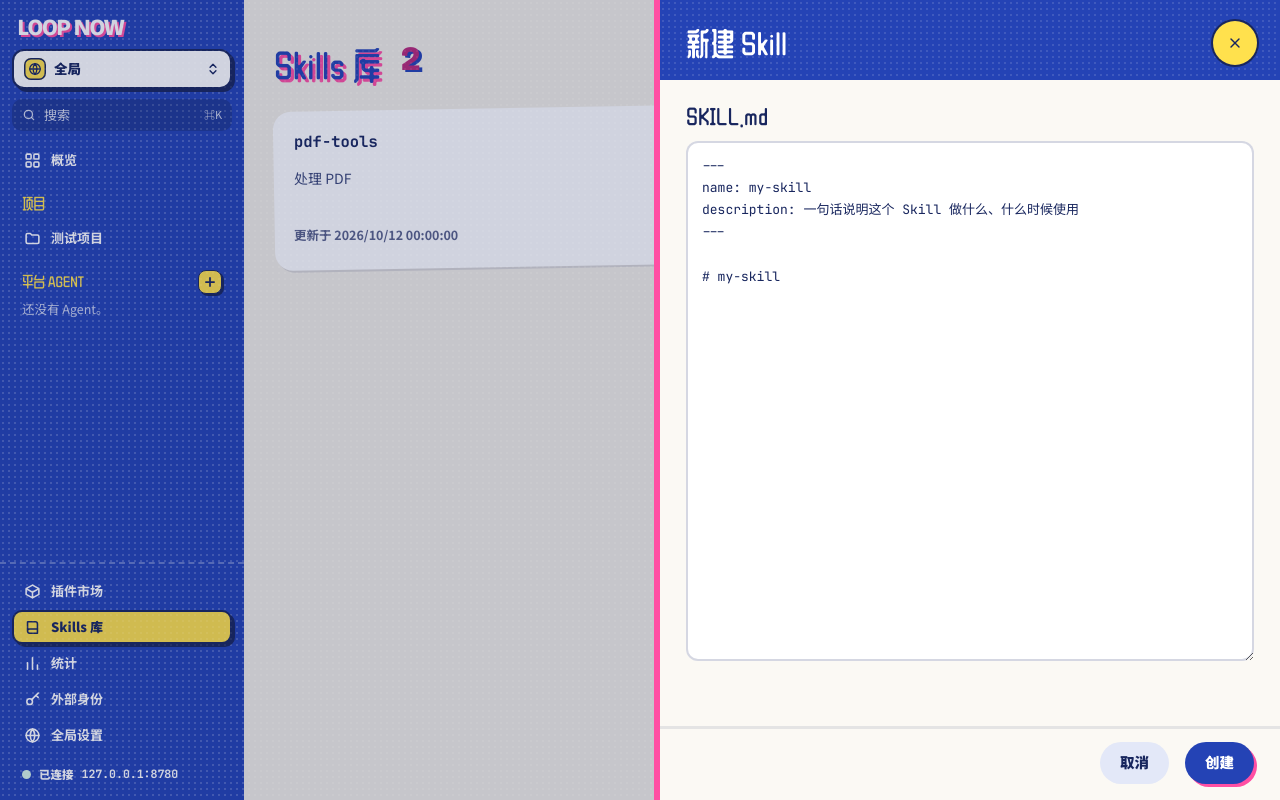
Test case: 抽屉由地址控制开合 › 在线新建抽屉的取消按钮关闭抽屉，不创建模板
The image size is (1280, 800).
Step 1. Click the button "取消" → (1134, 763), box [1100, 742, 1169, 784]
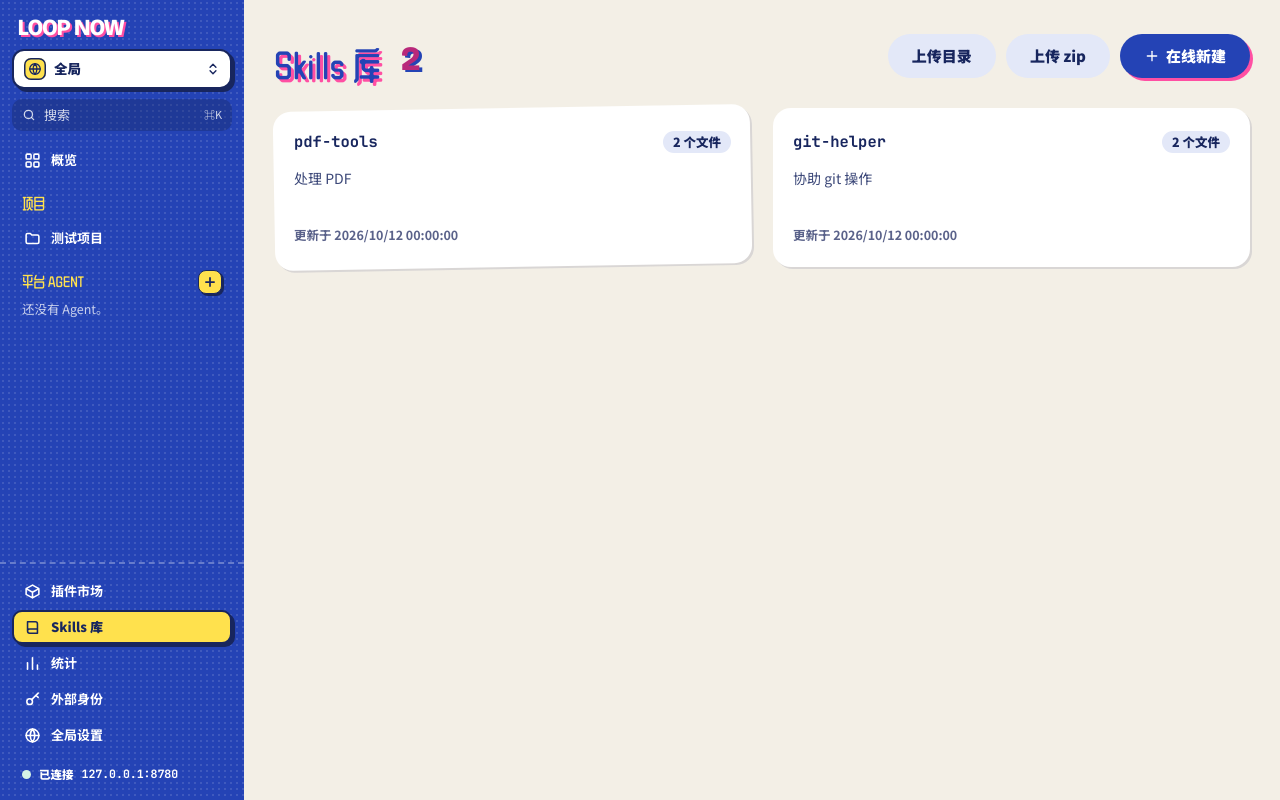
Now the dialog is gone
